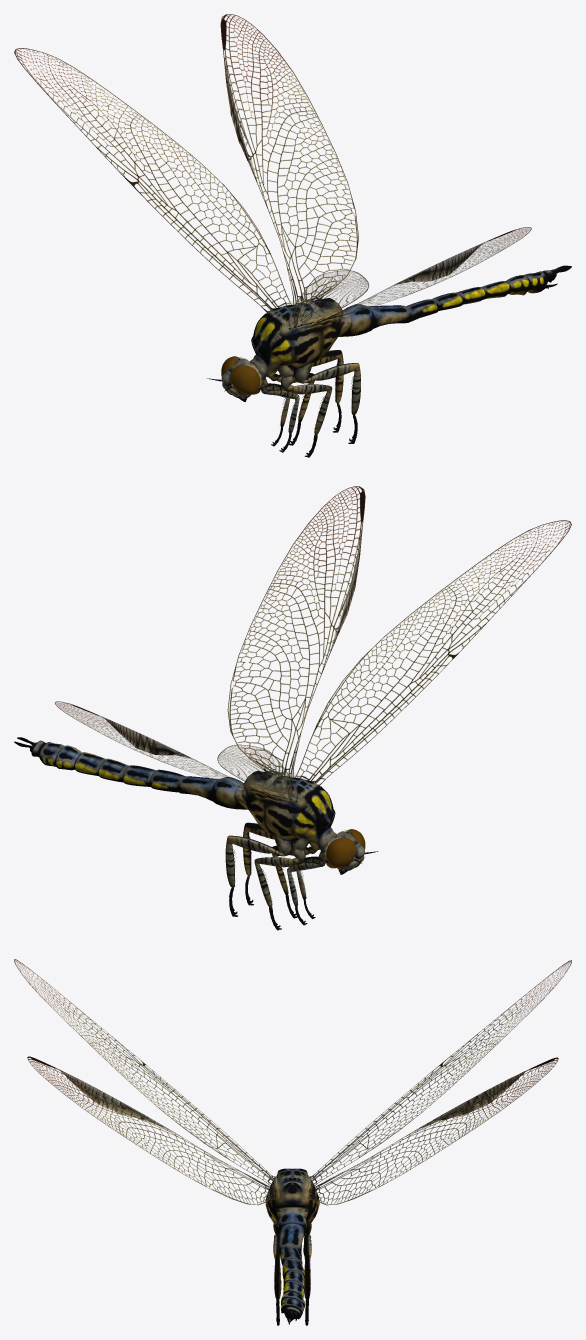
File: meganeura.glb
3 views of the same model, one above another, from view 1: azimuth 30°, elevation 25°; view 2: azimuth 150°, elevation 25°; view 3: azimuth 270°, elevation 25° (orthographic). The views are drawn at different scales.
Visible parts, largest first — view 1: Animal; view 2: Animal; view 3: Animal.
Part boxes in pixels (box(x1,y1,x2,y2)): Animal: box(14, 14, 571, 457); Animal: box(14, 486, 571, 930); Animal: box(14, 959, 571, 1325).
Bounding box in the file's own units: 2.42 × 1.85 × 3.2.
9 materials, 9 textured.
